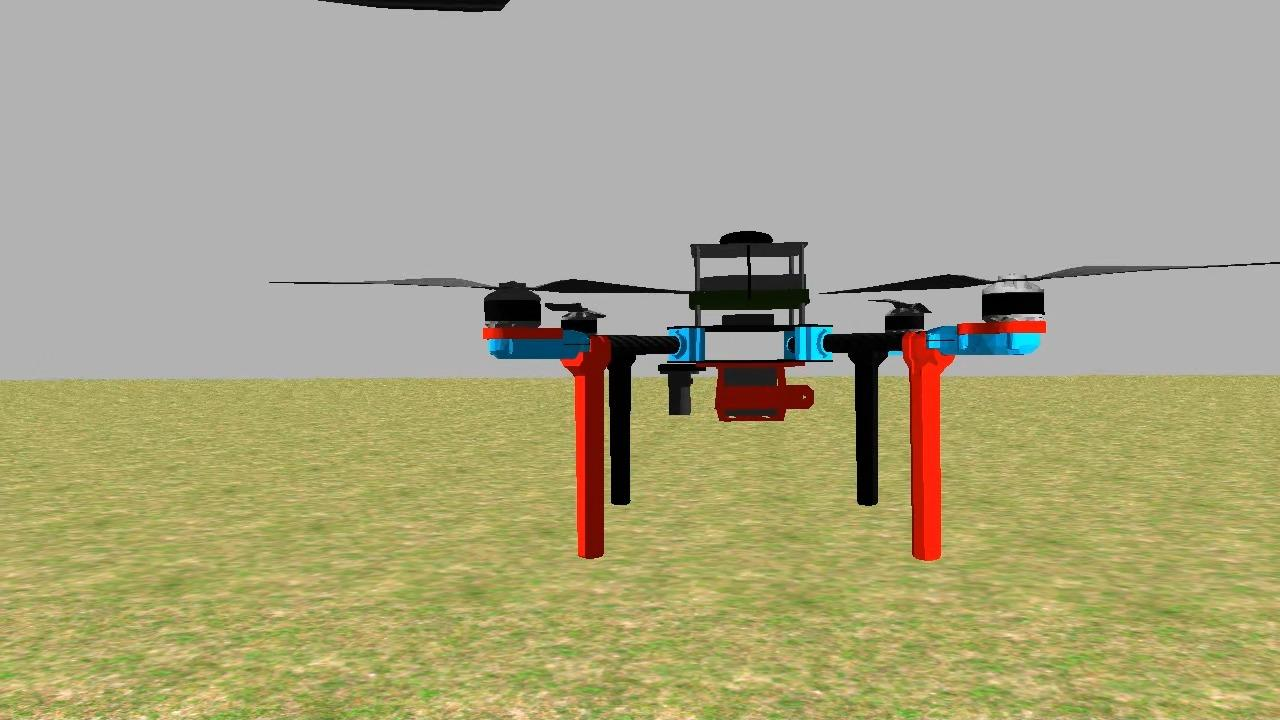UAV: (463, 216, 1057, 586)
